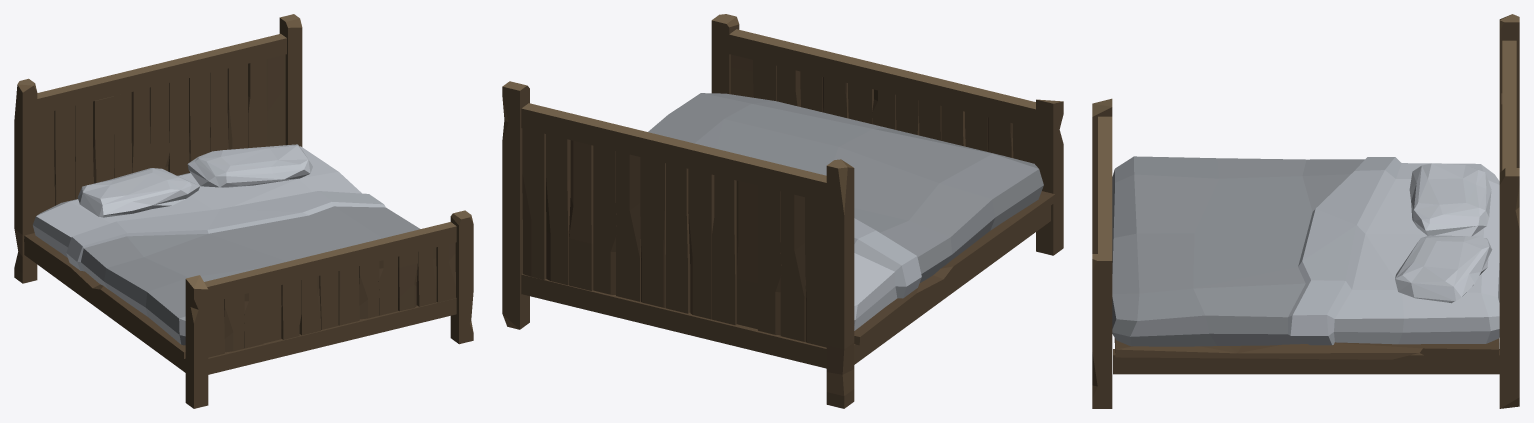
The model's file is SM_Prop_Bed_03.fbx.
3 renders of one model, left to right at view 1: azimuth 30°, elevation 25°; view 2: azimuth 150°, elevation 25°; view 3: azimuth 270°, elevation 25°, orthographic. The views are drawn at different scales.
Parts seen in each view (by area): view 1: SM_Prop_Bed_03; view 2: SM_Prop_Bed_03; view 3: SM_Prop_Bed_03.
Boxes of the visible parts, x1,y1,x2,y2 form: SM_Prop_Bed_03: (14, 14, 473, 408); SM_Prop_Bed_03: (502, 14, 1063, 408); SM_Prop_Bed_03: (1092, 14, 1519, 408).
Bounding box in the file's own units: 1.97 × 1.3 × 2.17.
1 material, 1 textured.
